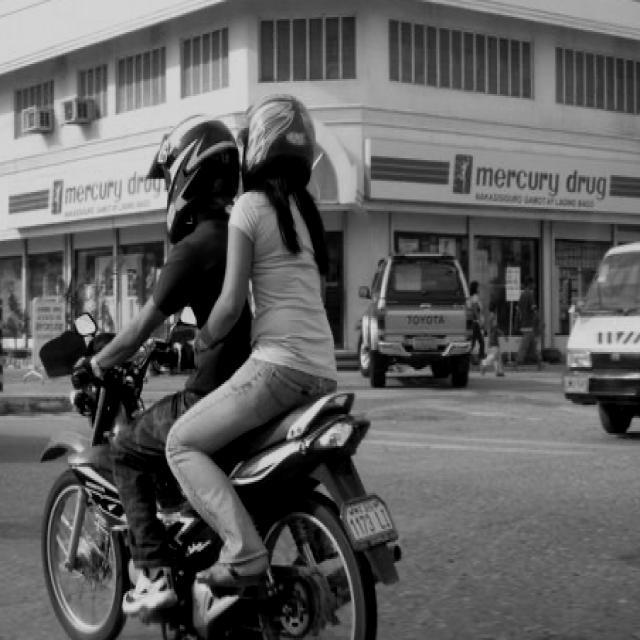Helmet: (146, 107, 241, 228)
